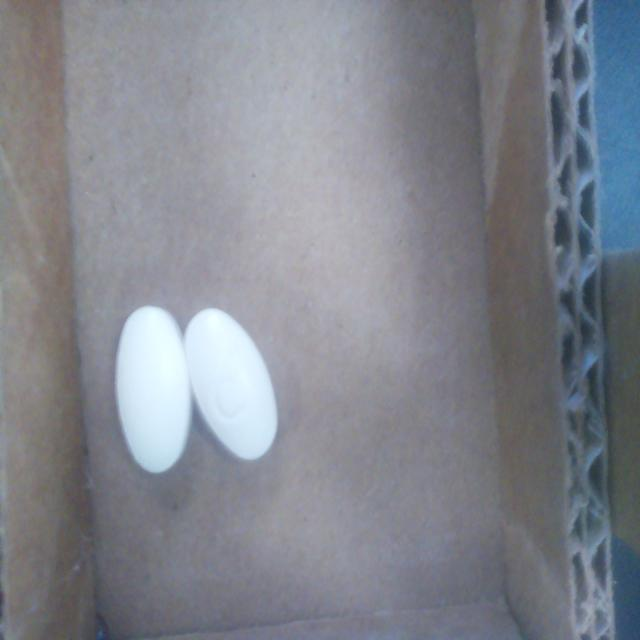pill: (184, 308, 278, 460), (115, 307, 192, 473)
